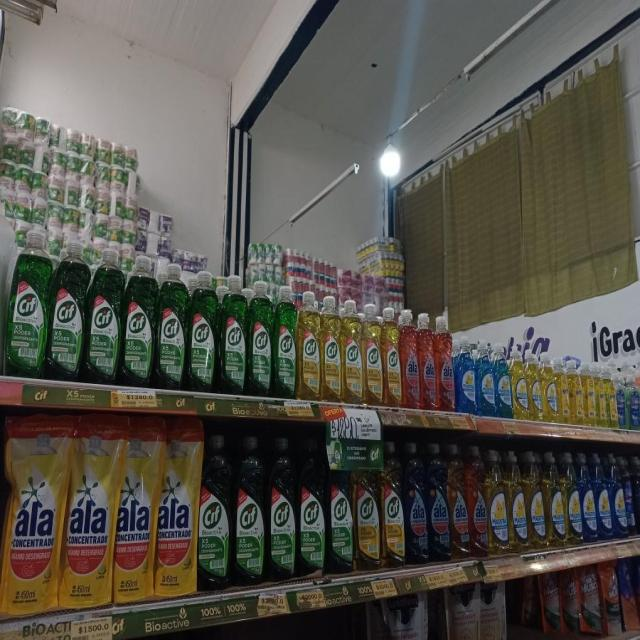ala_conc_amarillo: (449, 443, 468, 560)
ala_conc_azul: (404, 441, 427, 565), (427, 442, 449, 563)
ala_conc_rojo: (468, 444, 487, 559), (436, 314, 455, 412), (402, 308, 419, 409), (420, 311, 436, 411)
ala_sachet_amarillo: (1, 413, 62, 615), (64, 413, 114, 608), (114, 415, 156, 604), (156, 416, 198, 600)
cif_conc_bot_amarilla: (354, 446, 379, 572), (381, 439, 404, 568), (298, 291, 320, 401), (342, 298, 362, 404), (322, 294, 341, 403), (363, 302, 382, 406), (383, 305, 401, 408)
cif_conc_botella_verde: (6, 228, 47, 378), (198, 432, 232, 590), (49, 235, 85, 382), (87, 245, 121, 385), (234, 434, 265, 586), (122, 253, 154, 388), (267, 435, 296, 581), (156, 262, 187, 391), (298, 436, 325, 578), (188, 270, 218, 393), (327, 440, 353, 575), (219, 275, 247, 396), (248, 280, 272, 398), (274, 284, 296, 399)
magistral_con_amarillo: (488, 448, 508, 556), (508, 449, 526, 554), (545, 451, 564, 549), (526, 449, 544, 552), (564, 450, 580, 546), (512, 341, 527, 420), (527, 348, 542, 422), (542, 352, 557, 424), (558, 355, 570, 424)
magistral_con_azul: (456, 336, 476, 414), (580, 452, 595, 543), (478, 338, 495, 418), (596, 452, 610, 541), (611, 454, 625, 540), (496, 341, 511, 419), (625, 456, 634, 538), (634, 455, 640, 536)
